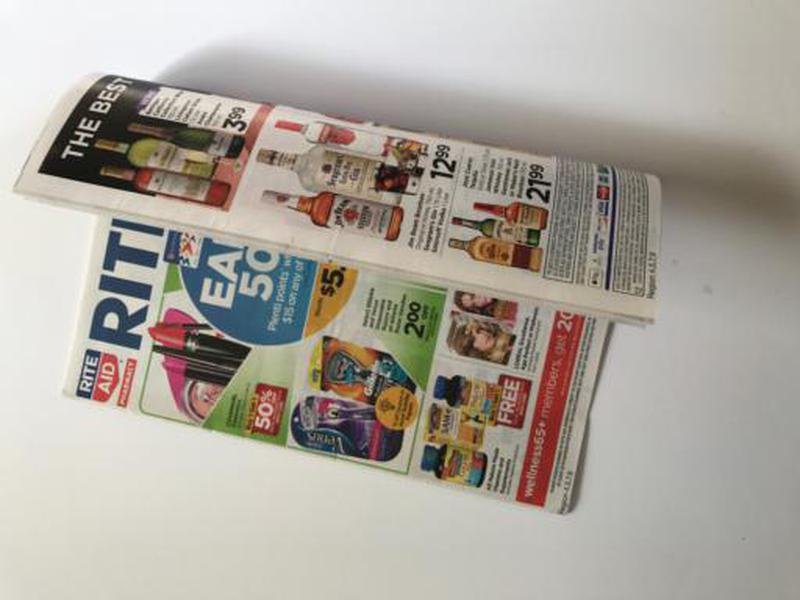paper: (12, 69, 668, 519)
